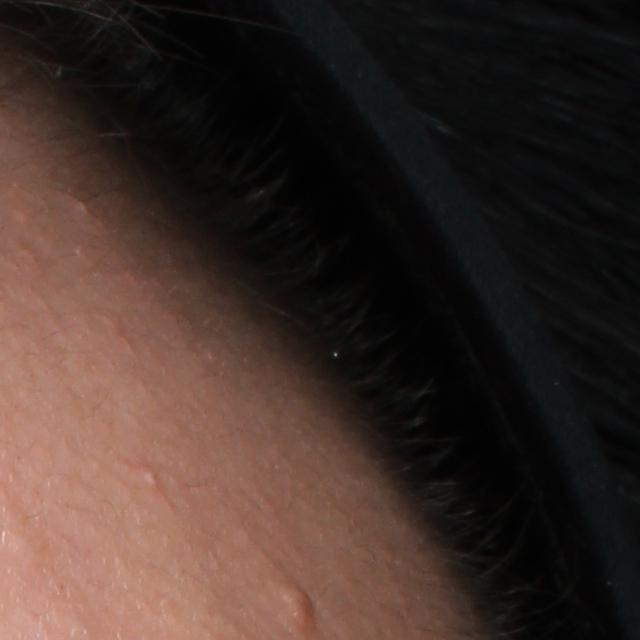papule: (274, 578, 318, 630)
